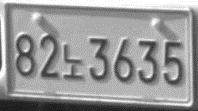2: (38, 33, 59, 79)
3: (136, 38, 158, 83), (88, 36, 109, 81)
5: (163, 40, 183, 84)
6: (112, 38, 134, 82)
8: (14, 33, 34, 76)
노: (63, 44, 83, 80)
